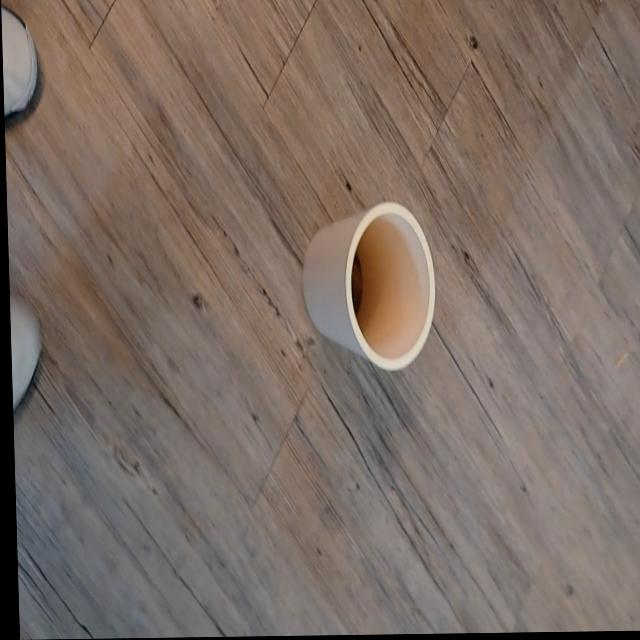CORAL: (289, 143, 447, 403)
